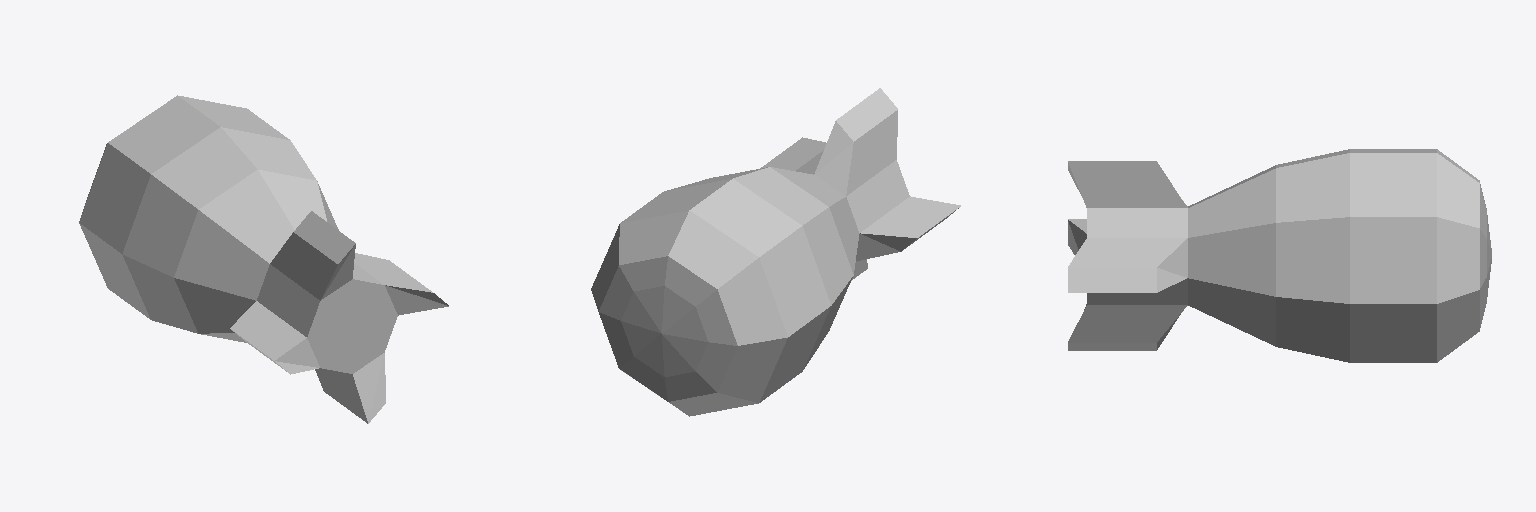
Rendered from MortarShotObj.obj.
3 views of the same model, side by side, from view 1: azimuth 30°, elevation 25°; view 2: azimuth 150°, elevation 25°; view 3: azimuth 270°, elevation 25° (orthographic).
Size of the model in its own units: 2.36 by 2.36 by 4.41.